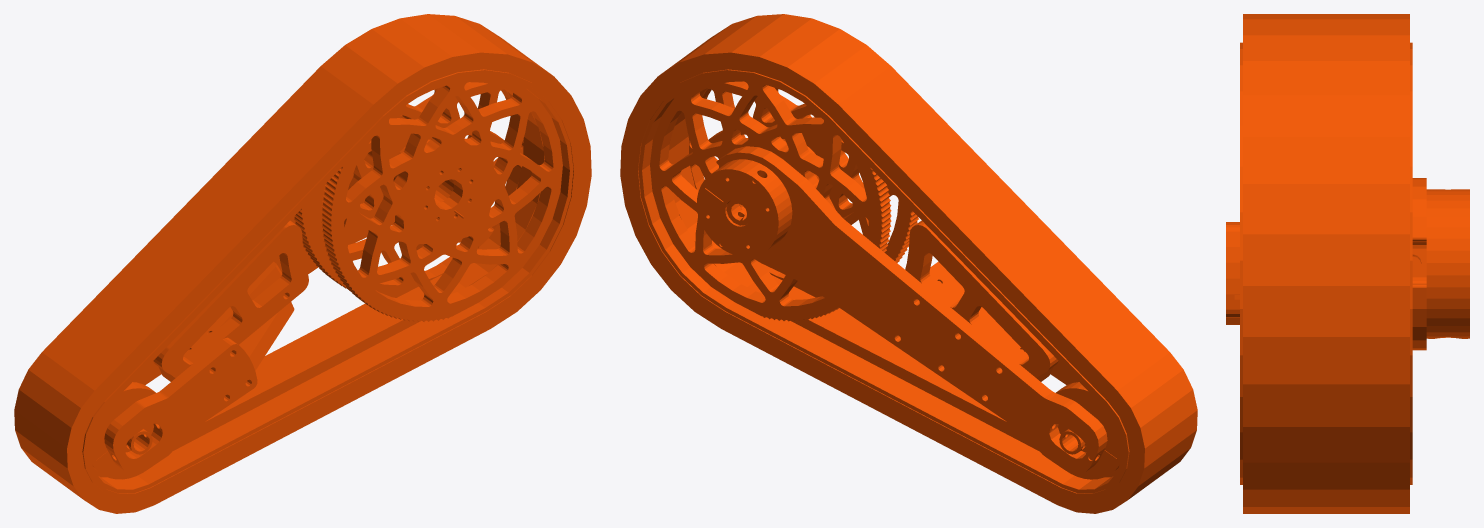
The model's file is front-left.dae.
The picture shows the model from 3 angles, left to right: view 1: azimuth 30°, elevation 25°; view 2: azimuth 150°, elevation 25°; view 3: azimuth 270°, elevation 25°; orthographic projection. The views are drawn at different scales.
Parts seen in each view (by area): view 1: Flipper-front-left; view 2: Flipper-front-left; view 3: Flipper-front-left.
Part boxes in pixels (x1=…): Flipper-front-left: x1=14, y1=14, x2=591, y2=513; Flipper-front-left: x1=620, y1=14, x2=1197, y2=513; Flipper-front-left: x1=1226, y1=14, x2=1469, y2=513.
Bounding box in the file's own units: 16.66 × 4.23 × 11.47.
